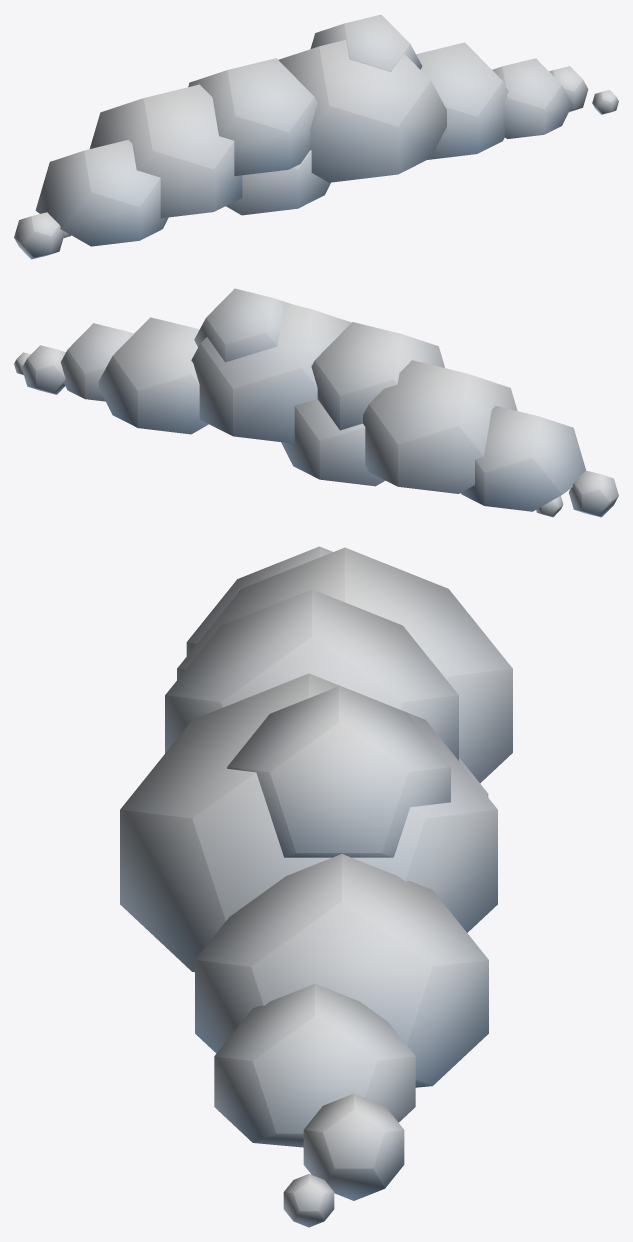
The model's file is cloud_cluster_day.glb.
The picture shows the model from 3 angles, top to bottom: view 1: azimuth 30°, elevation 25°; view 2: azimuth 150°, elevation 25°; view 3: azimuth 270°, elevation 25°; orthographic projection. The views are drawn at different scales.
Parts seen in each view (by area): view 1: DayCloudCluster; view 2: DayCloudCluster; view 3: DayCloudCluster.
Boxes of the visible parts, bbox=[...] form: DayCloudCluster: bbox=[14, 14, 618, 259]; DayCloudCluster: bbox=[14, 288, 618, 517]; DayCloudCluster: bbox=[120, 546, 512, 1227].
Bounding box in the file's own units: 9.19 × 2.26 × 2.62.
